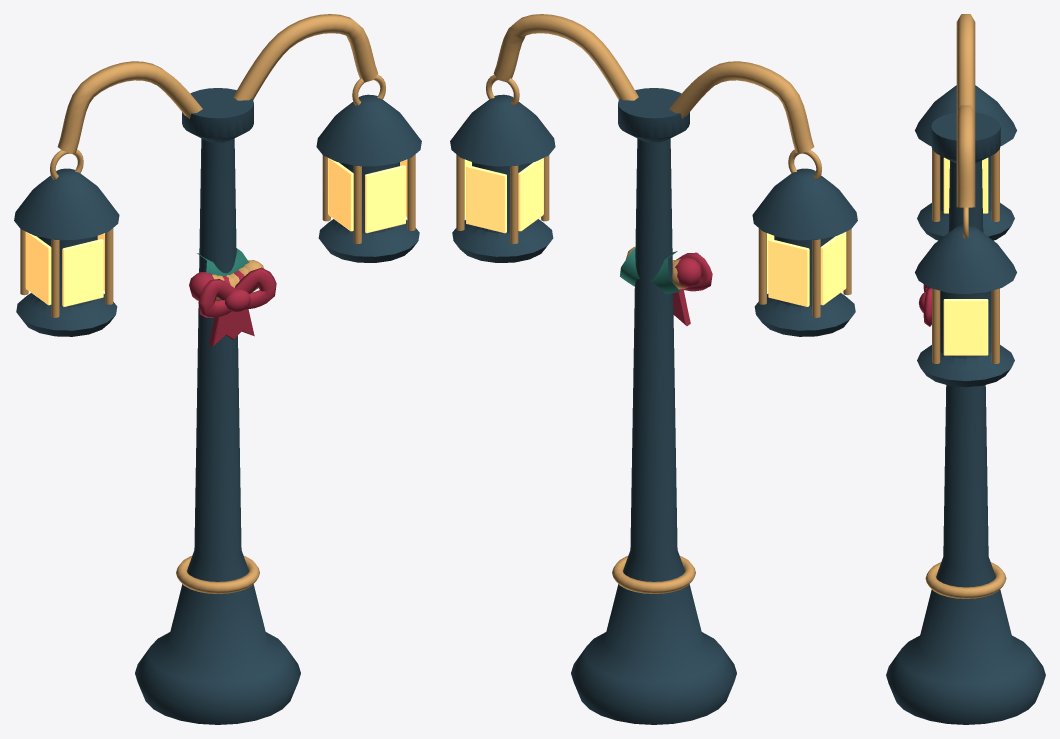
File: lantern2.glb
3 views of the same model, side by side, from view 1: azimuth 30°, elevation 25°; view 2: azimuth 150°, elevation 25°; view 3: azimuth 270°, elevation 25° (orthographic). The views are drawn at different scales.
Visible parts, largest first — view 1: double-lantern-post; view 2: double-lantern-post; view 3: double-lantern-post.
Part boxes in pixels (x1,y1,x2,y2): double-lantern-post: [14, 14, 421, 724]; double-lantern-post: [450, 14, 857, 724]; double-lantern-post: [886, 14, 1045, 724].
Size of the model in its own units: 1.64 by 2.59 by 0.5999.
